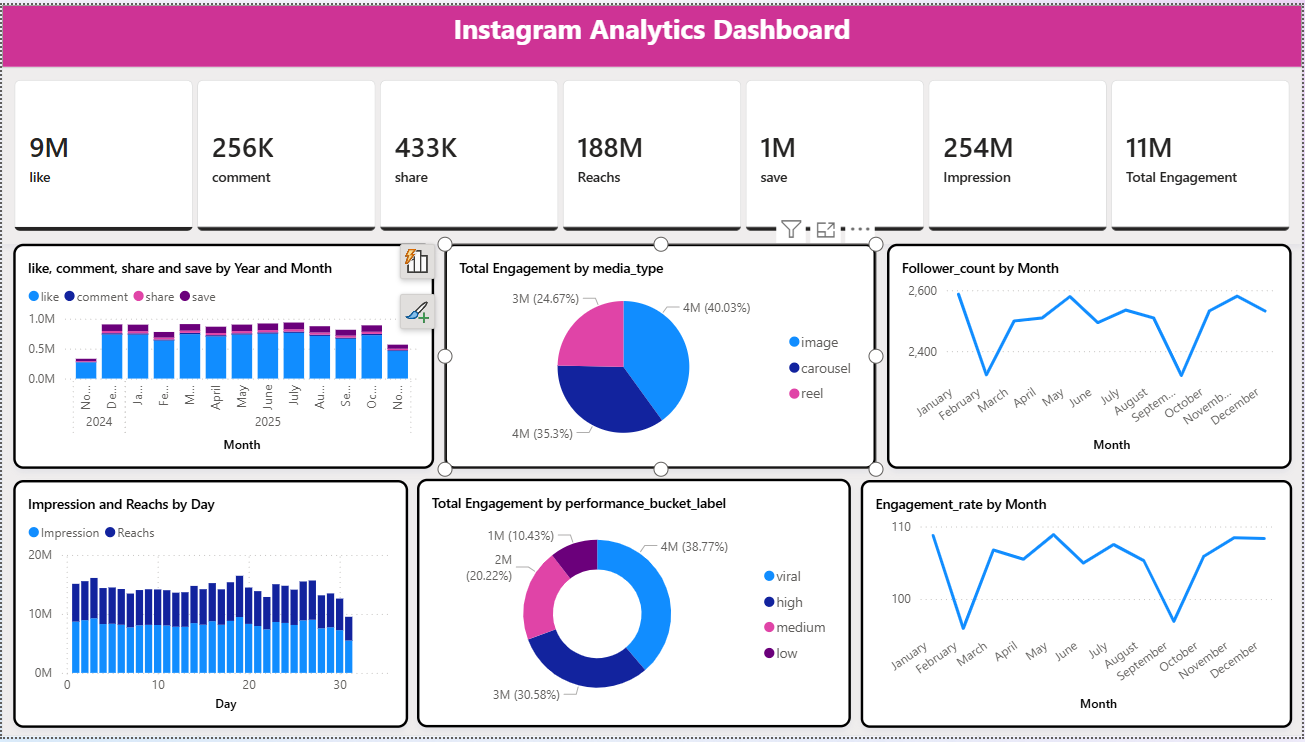

The dashboard page shown, as its layout file describes it:
{"tool":"powerbi","page":{"name":"Page 1","canvas":[1280,720],"ordinal":0},"visuals":[{"type":"textbox","box":[0,0,1280,61.1],"z":0},{"type":"shape","box":[0,61.7,1280,658.3],"z":1000},{"type":"cardVisual","fields":{"Data":["Instagram_Analytics.like","Instagram_Analytics.comment","Instagram_Analytics.share","Instagram_Analytics.Reachs","Instagram_Analytics.save","Instagram_Analytics.Impression","Instagram_Analytics.Total Engagement"]},"box":[0,61.7,1280,173.3],"z":2000},{"type":"columnChart","fields":{"Y":["Instagram_Analytics.Impression","Instagram_Analytics.Reachs"],"Category":["Instagram_Analytics.post_date.Variation.Date Hierarchy.Day"]},"box":[11.1,467.7,388.9,243.7],"z":3000},{"type":"pieChart","fields":{"Category":["Instagram_Analytics.media_type"],"Y":["Instagram_Analytics.Total Engagement"]},"box":[435.7,235.1,424.6,221.5],"z":4000},{"type":"donutChart","fields":{"Category":["Instagram_Analytics.performance_bucket_label"],"Y":["Instagram_Analytics.Total Engagement"]},"box":[408.6,466.5,427.1,244.9],"z":5000},{"type":"columnChart","fields":{"Y":["Instagram_Analytics.like","Instagram_Analytics.comment","Instagram_Analytics.share","Instagram_Analytics.save"],"Category":["Instagram_Analytics.post_date.Variation.Date Hierarchy.Year","Instagram_Analytics.post_date.Variation.Date Hierarchy.Month"]},"box":[11.1,235.1,414.8,221.5],"z":6000},{"type":"lineChart","title":"Follower_count by Month","fields":{"Category":["Instagram_Analytics.post_date.Variation.Date Hierarchy.Month"],"Y":["CountNonNull(Instagram_Analytics.follower_count)"]},"box":[871.4,235.1,398.8,221.5],"z":7000},{"type":"lineChart","title":"Engagement_rate by Month","fields":{"Y":["Sum(Instagram_Analytics.engagement_rate)"],"Category":["Instagram_Analytics.post_date.Variation.Date Hierarchy.Month"]},"box":[845.5,467.7,424.6,243.7],"z":8000}]}

Visuals, with their boxes in screenshot pixels (x1, y1, x2, y2), scaled from the page's 1280x720 canvas onto the 1305x742 screenshot:
textbox: rect(0, 0, 1304, 63)
shape: rect(0, 64, 1304, 741)
cardVisual - Instagram_Analytics.like x Instagram_Analytics.comment: rect(0, 64, 1304, 242)
columnChart - Instagram_Analytics.Impression x Instagram_Analytics.Reachs: rect(11, 482, 408, 733)
pieChart - Instagram_Analytics.media_type x Instagram_Analytics.Total Engagement: rect(444, 242, 877, 471)
donutChart - Instagram_Analytics.performance_bucket_label x Instagram_Analytics.Total Engagement: rect(417, 481, 852, 733)
columnChart - Instagram_Analytics.like x Instagram_Analytics.comment: rect(11, 242, 434, 471)
"Follower_count by Month" lineChart: rect(888, 242, 1295, 471)
"Engagement_rate by Month" lineChart: rect(862, 482, 1295, 733)
